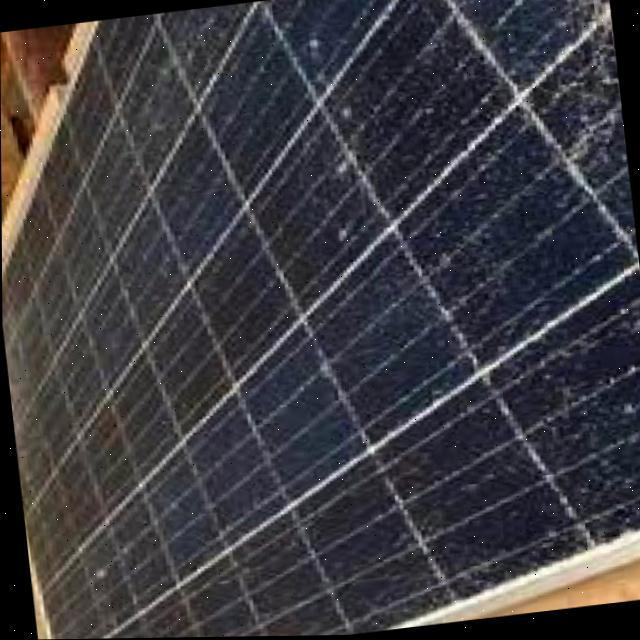Anomaly Solar Panel: (0, 0, 640, 640)
Structural Damage: (529, 0, 624, 142)
